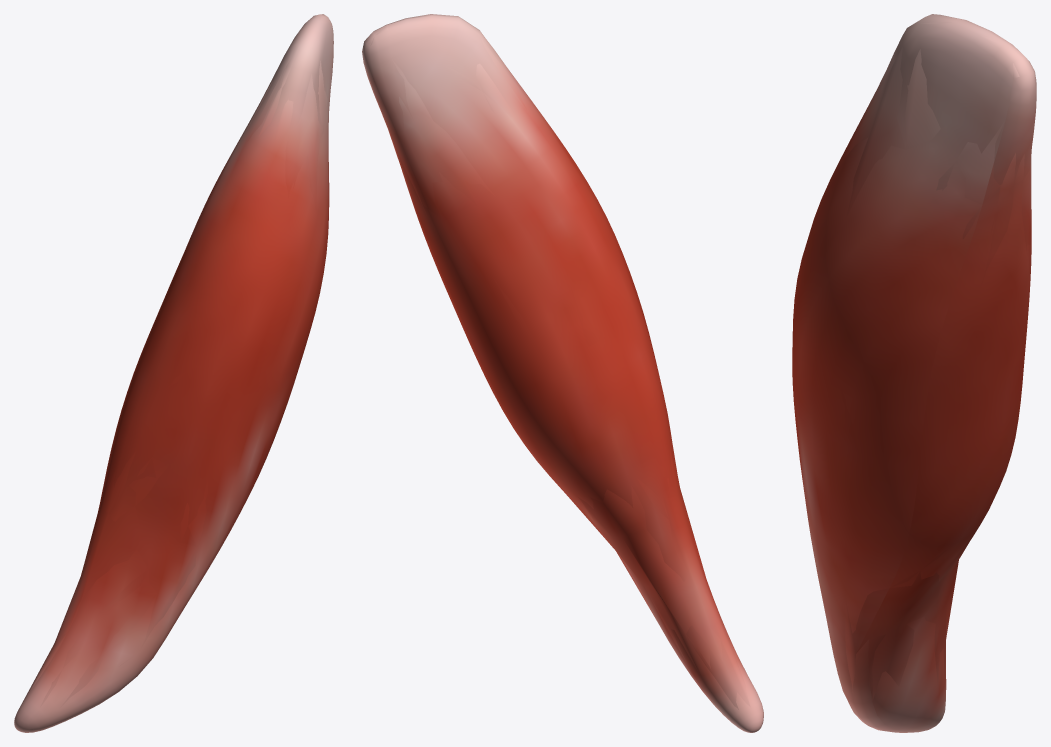
The model's file is R Pectineus.fbx.
3 views of the same model, side by side, from view 1: azimuth 30°, elevation 25°; view 2: azimuth 150°, elevation 25°; view 3: azimuth 270°, elevation 25° (orthographic). The views are drawn at different scales.
Visible parts, largest first — view 1: R Pectineus, R Pectineus low; view 2: R Pectineus, R Pectineus low; view 3: R Pectineus, R Pectineus low.
Boxes of the visible parts, x1,y1,x2,y2 form: R Pectineus: [14, 14, 333, 732]; R Pectineus low: [22, 15, 331, 707]; R Pectineus: [362, 14, 763, 732]; R Pectineus low: [370, 19, 750, 709]; R Pectineus: [792, 14, 1036, 732]; R Pectineus low: [813, 22, 1034, 730].
Size of the model in its own units: 10.85 by 18.5 by 4.46.
